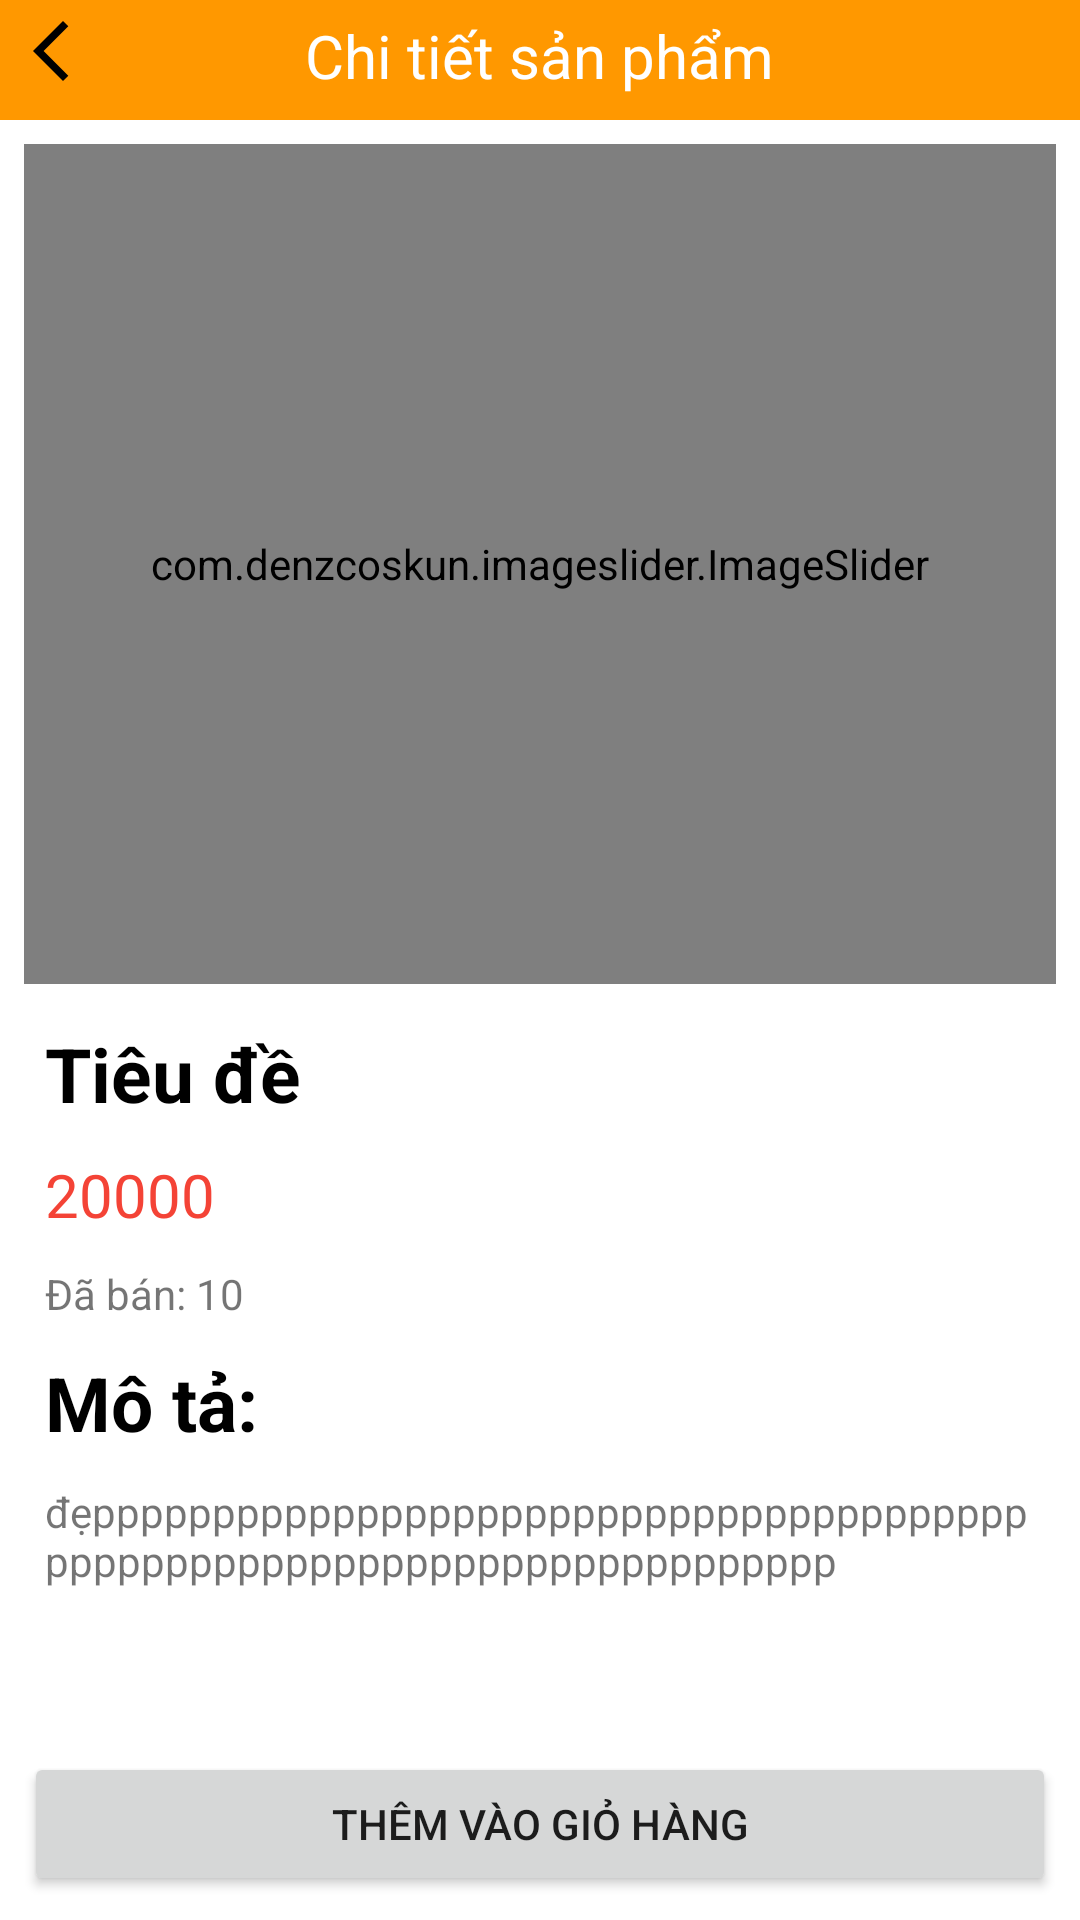

Screen size 1080×1920. Icon name, then its box in pixels as (x1, y1, x2, y2):
back: (33, 21, 68, 81)
